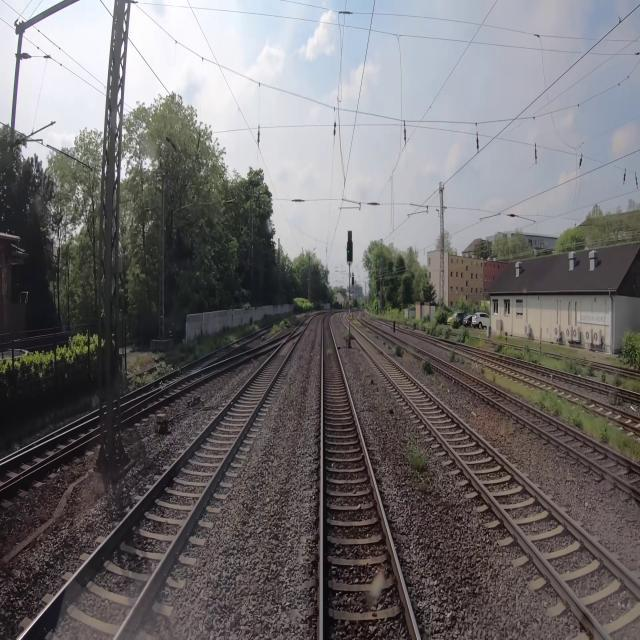Plant: (480, 364, 639, 465), (493, 341, 582, 376), (407, 437, 426, 468), (613, 370, 639, 392), (455, 330, 484, 347), (426, 322, 450, 339), (270, 320, 286, 335), (420, 359, 433, 375), (586, 361, 595, 377), (600, 367, 607, 382), (394, 343, 402, 356), (449, 349, 456, 361)
